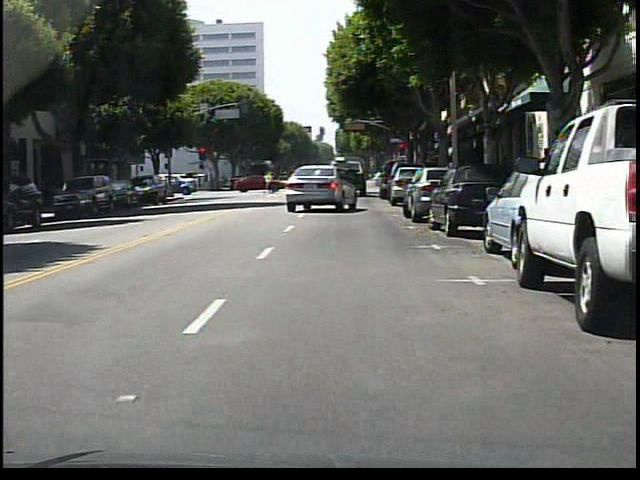person: (287, 167, 298, 194), (264, 170, 276, 194), (263, 172, 269, 189)
